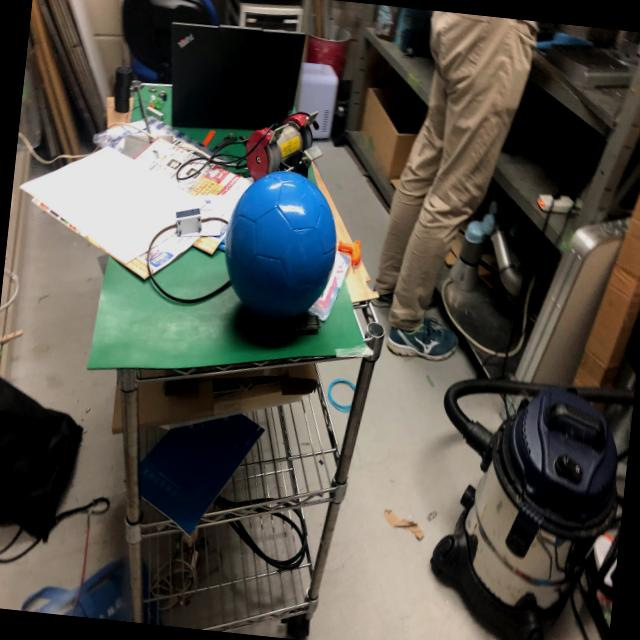blue_ball: (218, 162, 344, 332)
